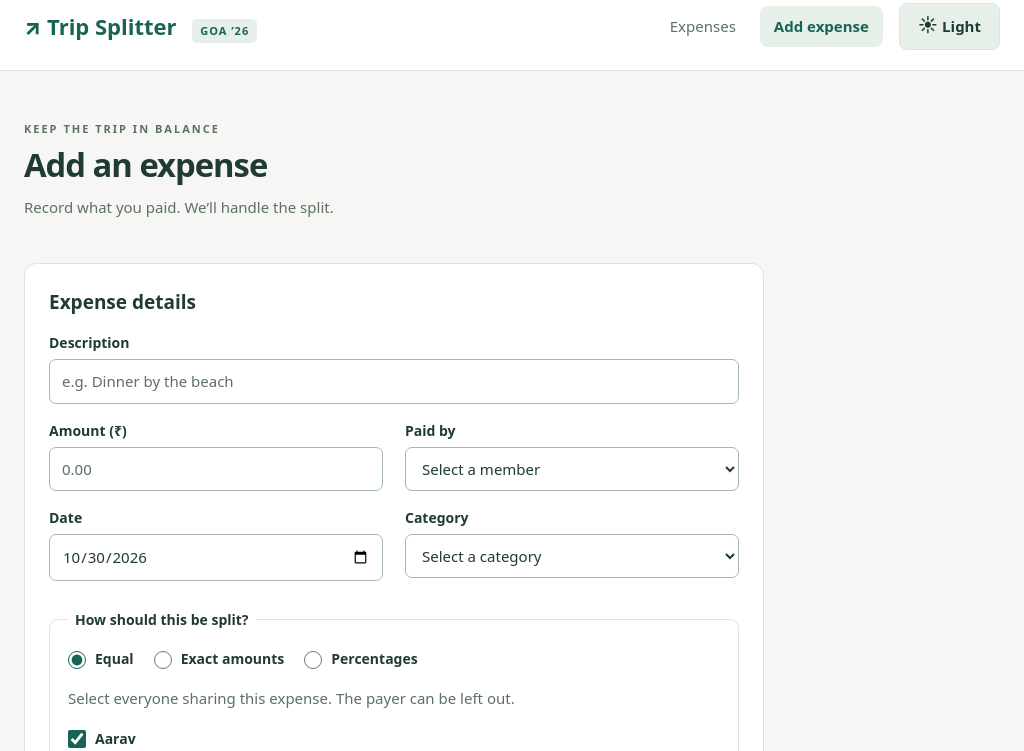
cancel leaves state alone
In the field labelled "Description": (394, 382) left=49, top=359, right=739, bottom=404, type "Unsaved"
(page scrolled)
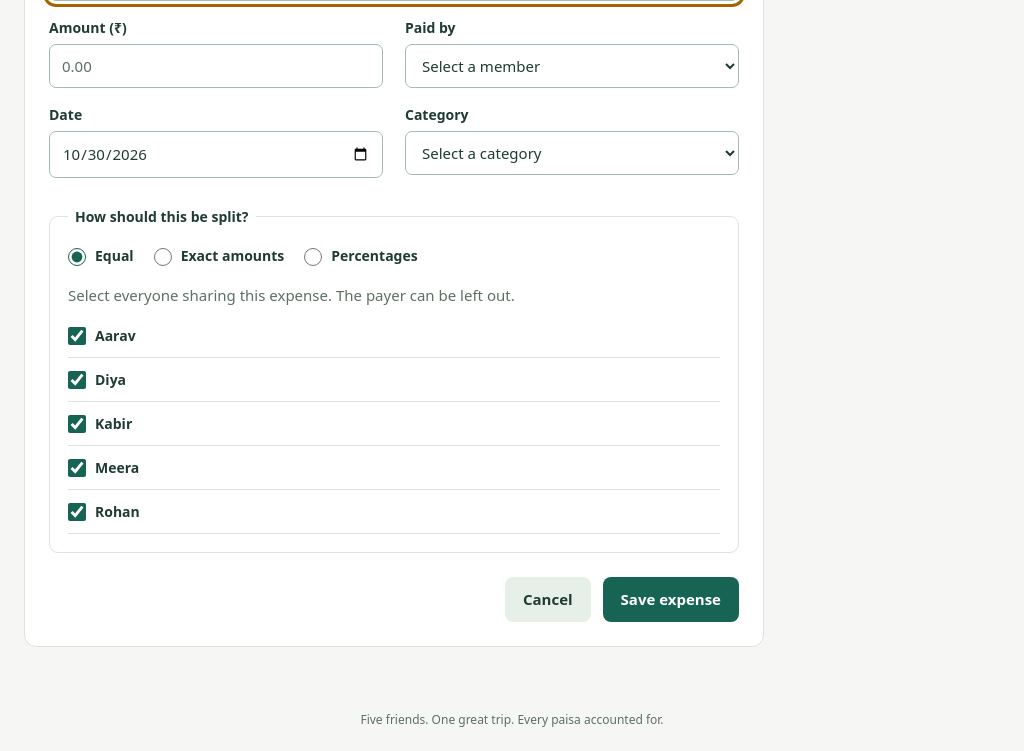
Click the link "Cancel": (548, 600) left=505, top=578, right=591, bottom=622
(page scrolled)
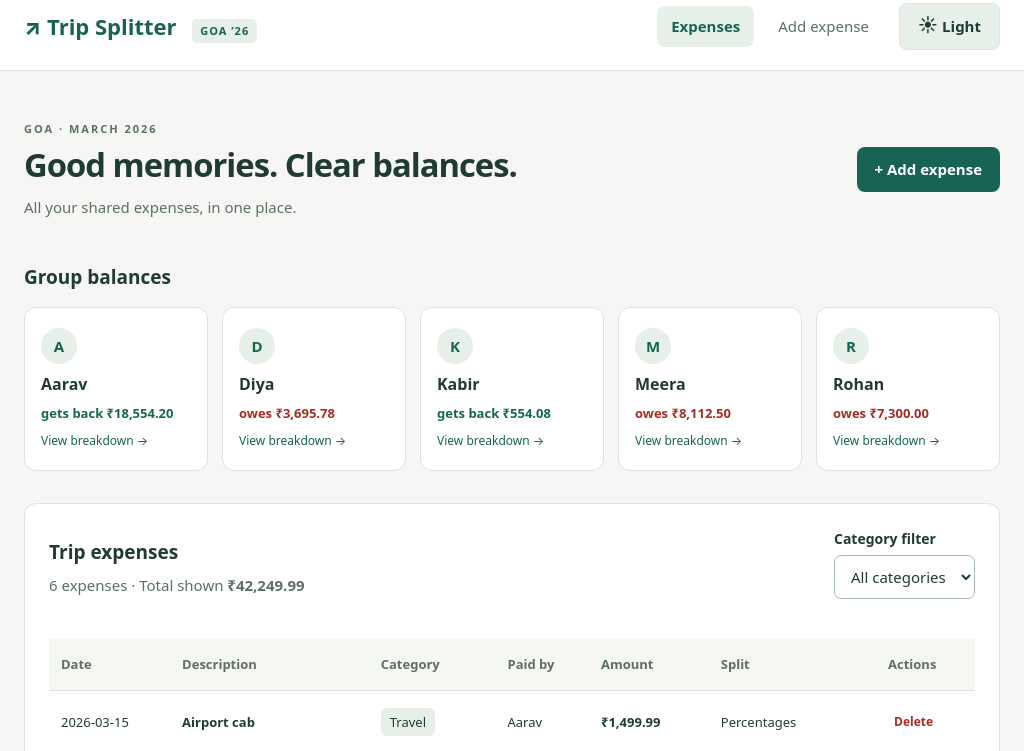
Expected: the heading "Trip expenses" is shown, left=49, top=539, right=178, bottom=565
